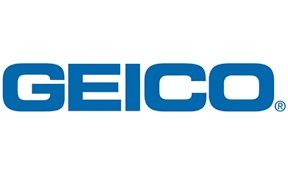geico: (3, 61, 279, 115)
